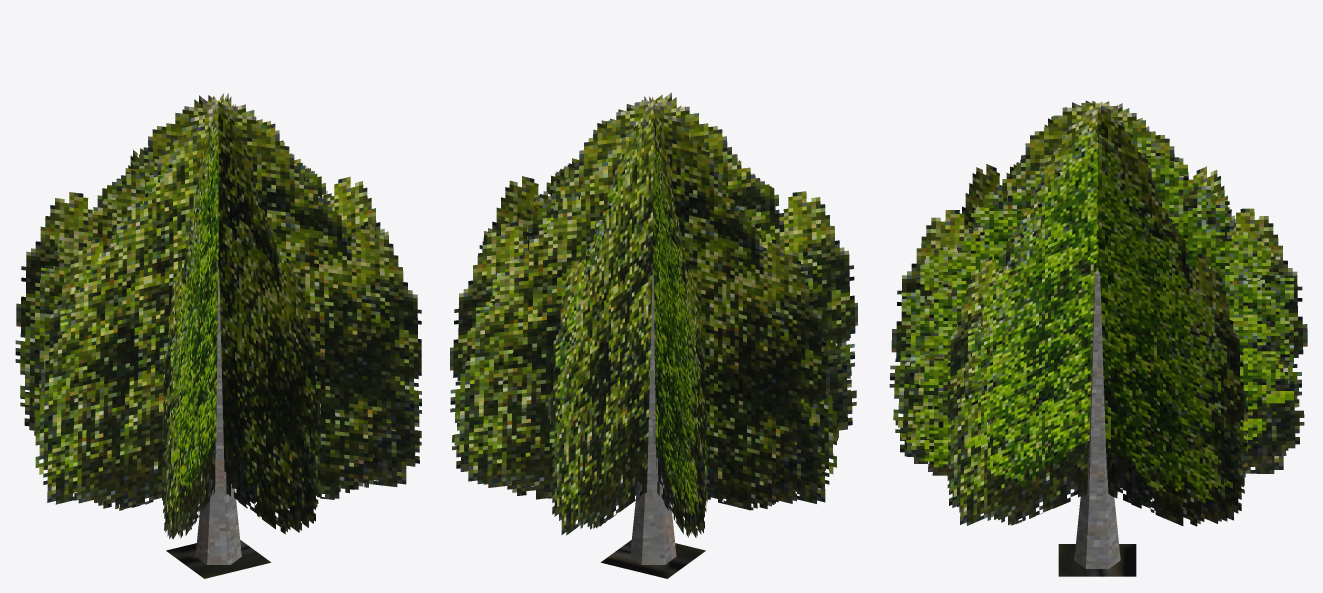
File: tree2.glb
3 views of the same model, side by side, from view 1: azimuth 30°, elevation 25°; view 2: azimuth 150°, elevation 25°; view 3: azimuth 270°, elevation 25° (orthographic).
Visible parts, largest first — view 1: tree20, tree16, Plane; view 2: tree20, tree16, Plane; view 3: tree16, tree20, Plane.
Boxes of the visible parts, left/top/right/bottom form: tree20: left=15, top=93, right=421, bottom=539; tree16: left=32, top=106, right=320, bottom=564; Plane: left=166, top=540, right=270, bottom=578; tree20: left=450, top=92, right=857, bottom=537; tree16: left=468, top=126, right=813, bottom=564; Plane: left=601, top=540, right=705, bottom=578; tree16: left=901, top=121, right=1293, bottom=568; tree20: left=889, top=100, right=1307, bottom=526; Plane: left=1058, top=544, right=1136, bottom=576.
Bounding box in the file's own units: 10.89 × 13 × 10.89.
Materials: 3 (3 with a texture image).
